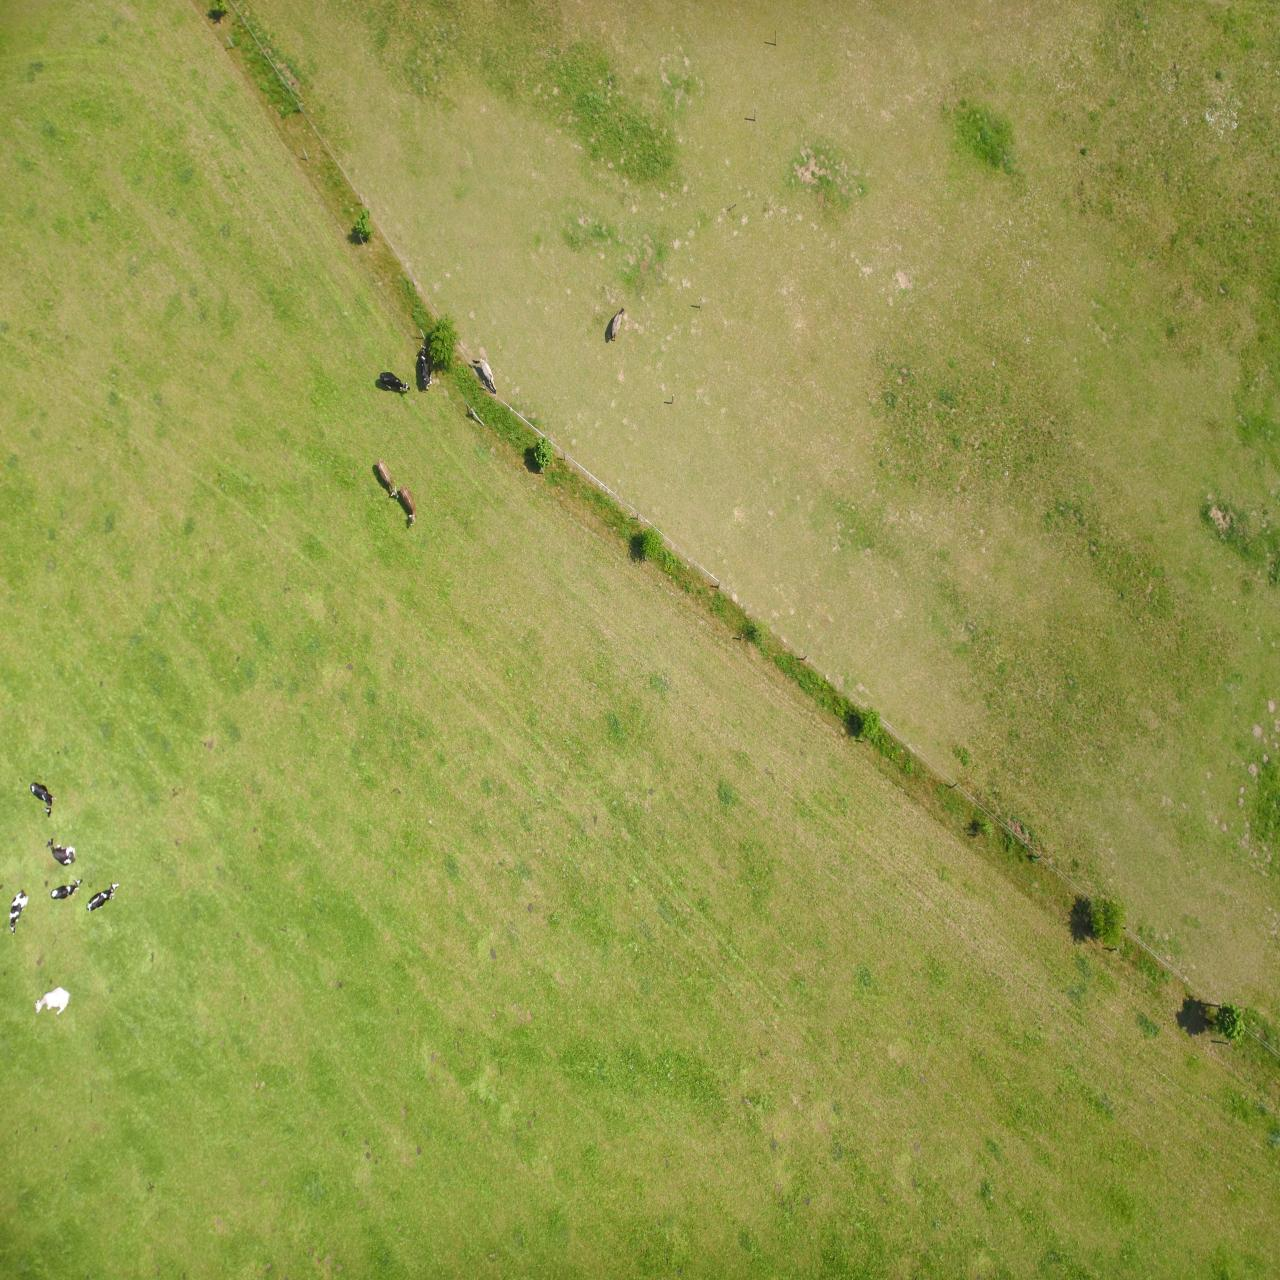cow: (1210, 265, 1245, 293), (1223, 462, 1250, 498), (1160, 369, 1194, 396), (881, 781, 904, 822), (1252, 345, 1271, 389), (1204, 414, 1233, 442), (863, 754, 880, 795), (1197, 381, 1228, 401), (870, 888, 900, 908), (847, 892, 859, 935)
